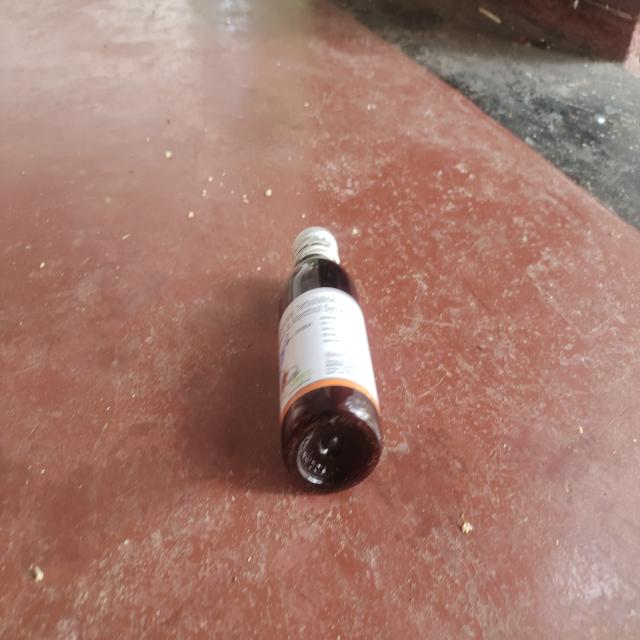plastic: (276, 220, 388, 497)
